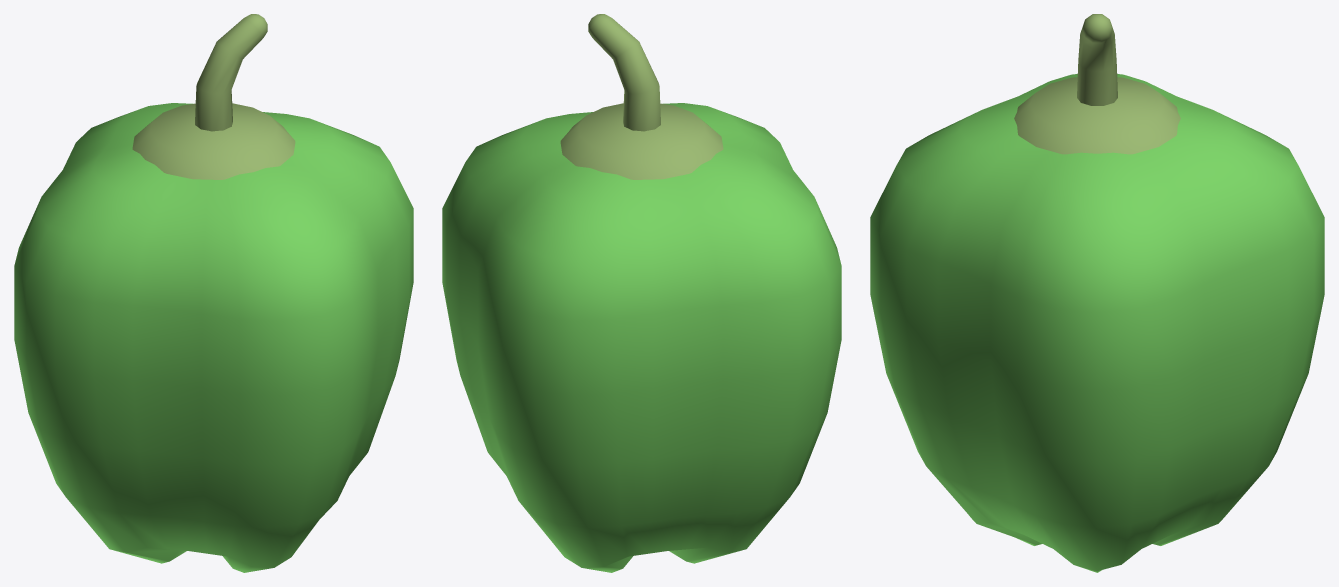
File: veg_pepper.glb
3 renders of one model, left to right at view 1: azimuth 30°, elevation 25°; view 2: azimuth 150°, elevation 25°; view 3: azimuth 270°, elevation 25°, orthographic. The views are drawn at different scales.
Visible parts, largest first — view 1: veg_pepper; view 2: veg_pepper; view 3: veg_pepper.
Boxes of the visible parts, x1,y1,x2,y2 form: veg_pepper: (14,14,413,572); veg_pepper: (442,14,841,572); veg_pepper: (870,14,1324,572).
Size of the model in its own units: 0.473 by 0.6338 by 0.473.
